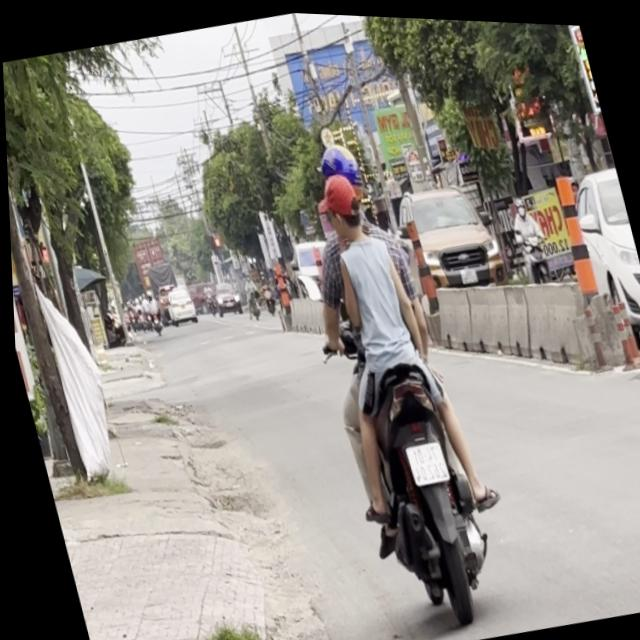helmet: (309, 133, 367, 196)
licenseplate: (264, 124, 517, 634)
motorcyclist: (311, 164, 368, 245)
nohelmet: (399, 431, 445, 481)
